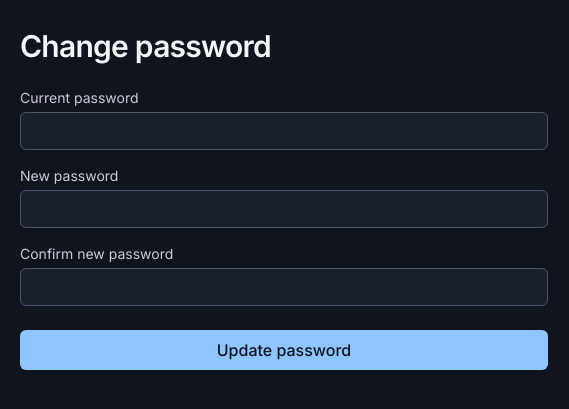
Test case: ChangePasswordForm › shows mismatch without calling the API
This screenshot has width=569, height=409.
Type "old-password-1" into the password field labelled "Current password" at [284, 131], box [20,112,548,150]
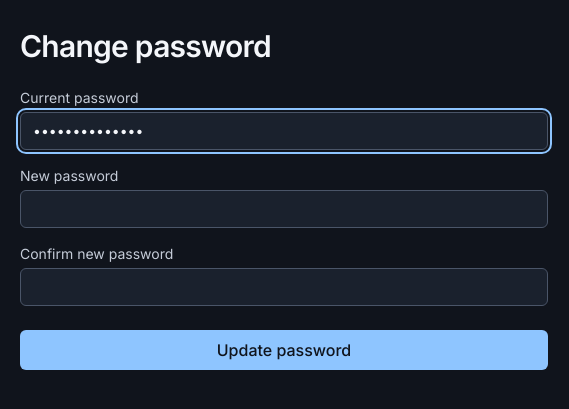
Type "correct-horse-1" into the password field labelled "New password" at [284, 209], box [20,190,548,228]
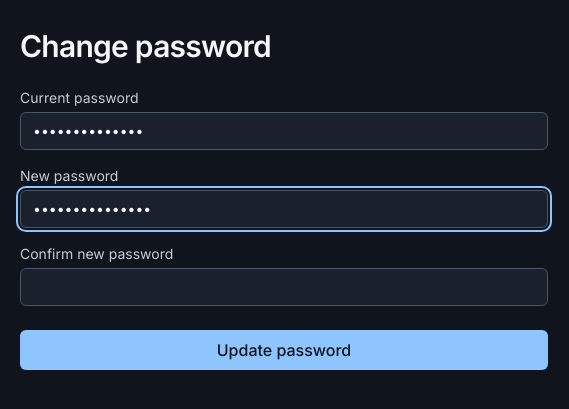
Type "correct-horse-2" into the password field labelled "Confirm new password" at [284, 287], box [20,268,548,306]
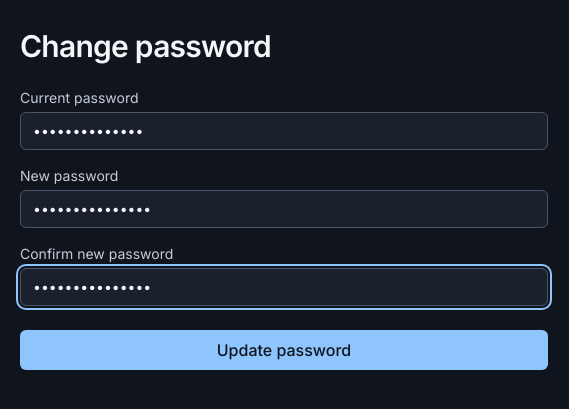
Click the button "Update password" at [284, 350], box [20,330,548,370]
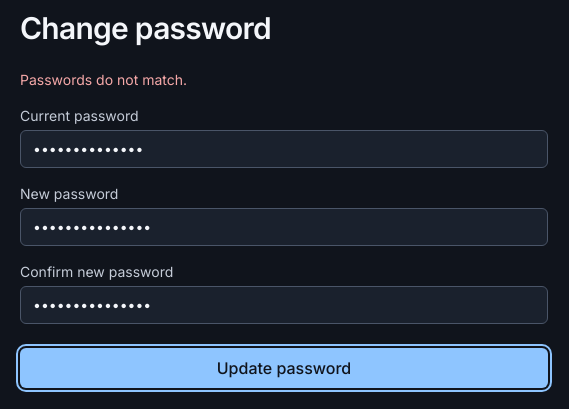
Result: the message reads "Passwords do not match." at [20,71,187,88]
